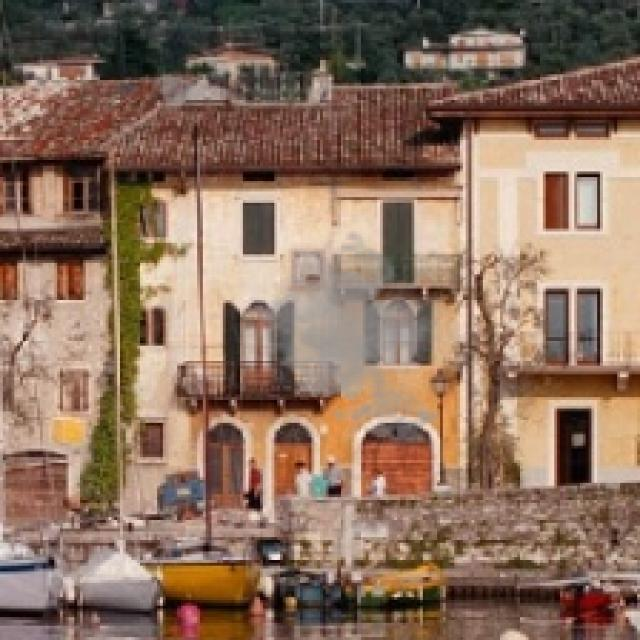smoke: (254, 229, 472, 434)
